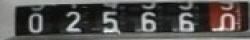digits: (100, 11, 120, 33), (64, 11, 82, 32), (26, 12, 43, 32), (140, 10, 156, 30), (178, 12, 194, 31), (219, 12, 235, 29)
